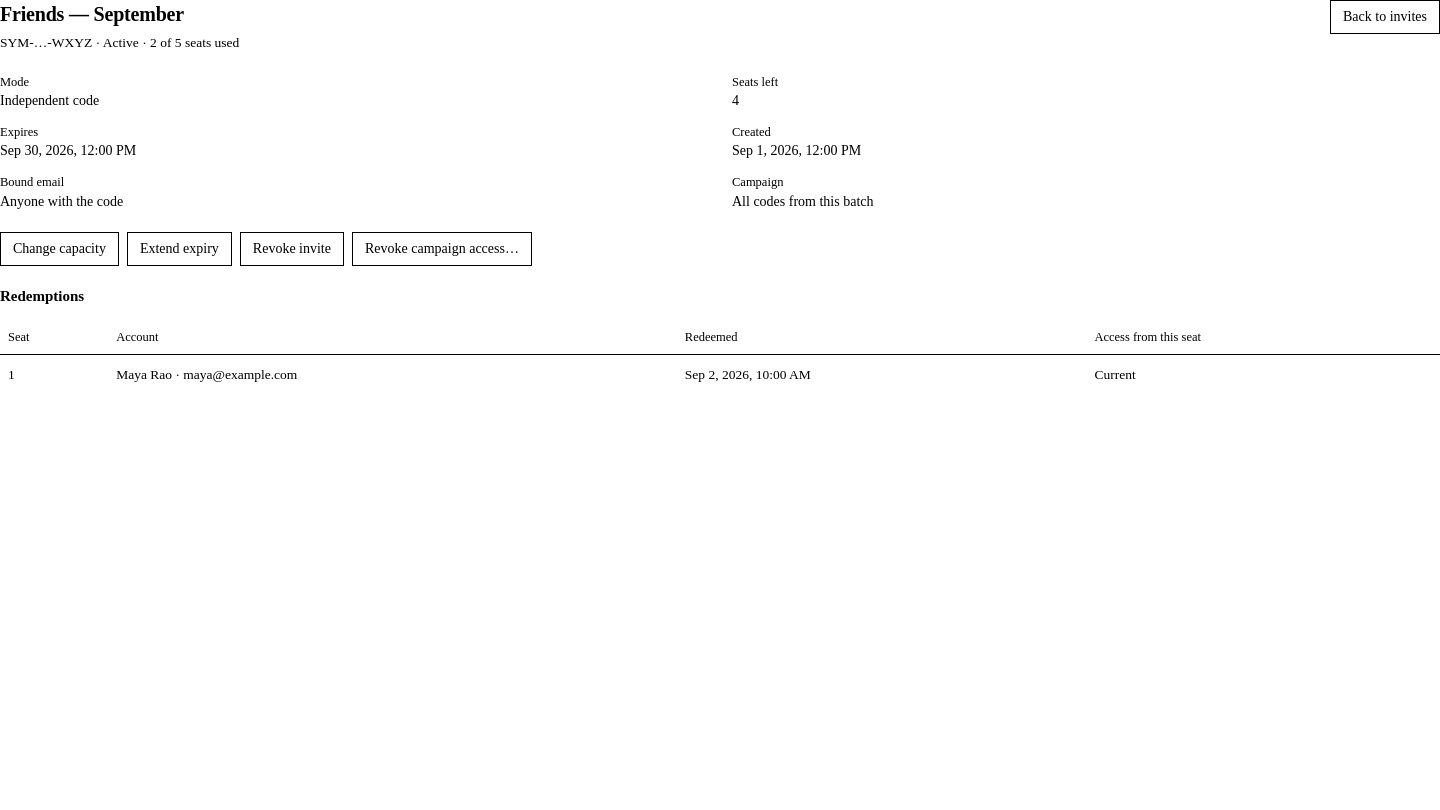
one invite (admin_invites.md) › never lets a cap go below the seats already used
The image size is (1440, 810).
Click the button "Change capacity": (59, 249) [0,232,119,266]
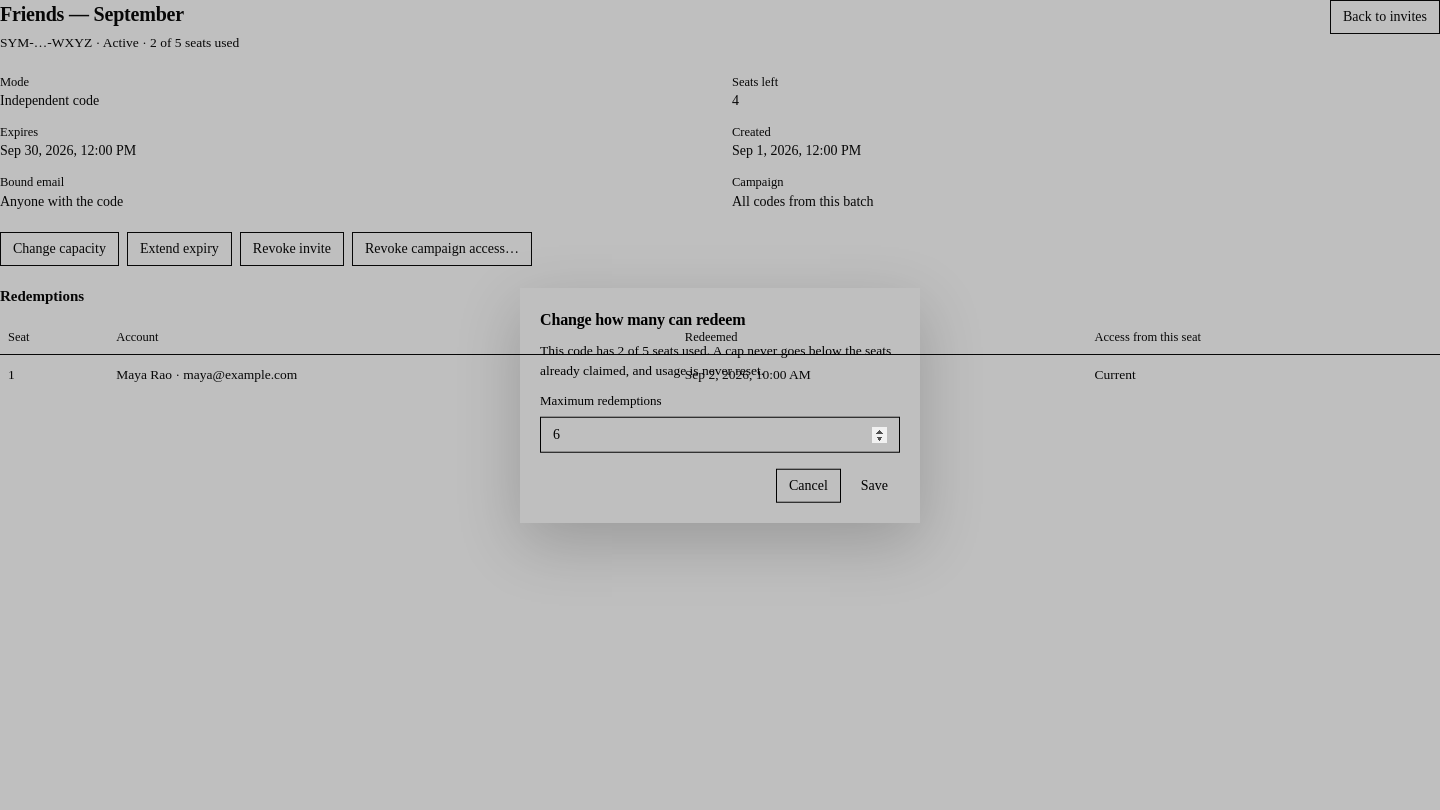
Replace the text in the number field labelled "Maximum redemptions" with "1": (720, 434) [540,416,900,452]
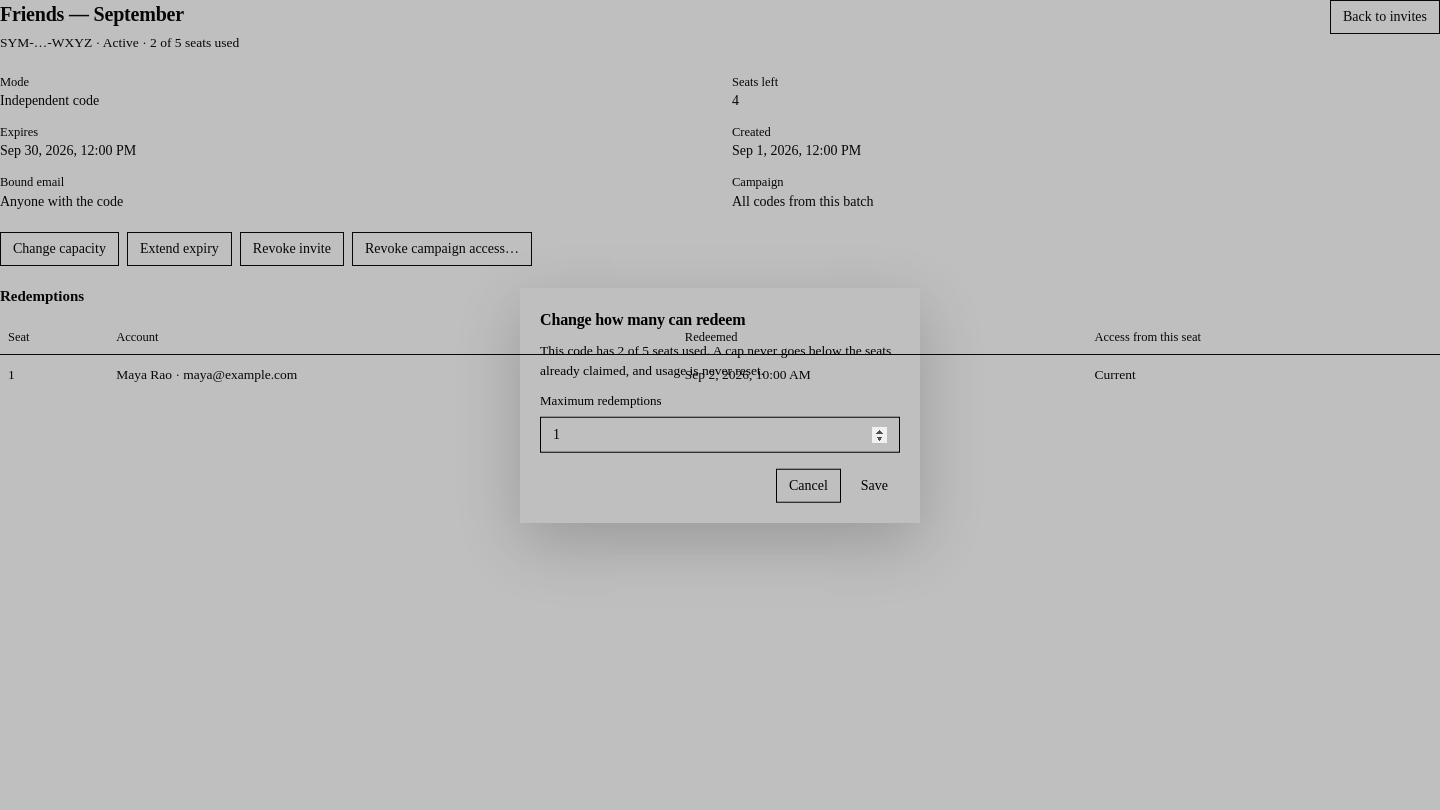
Click the button "Save": (874, 485) [849,468,900,502]
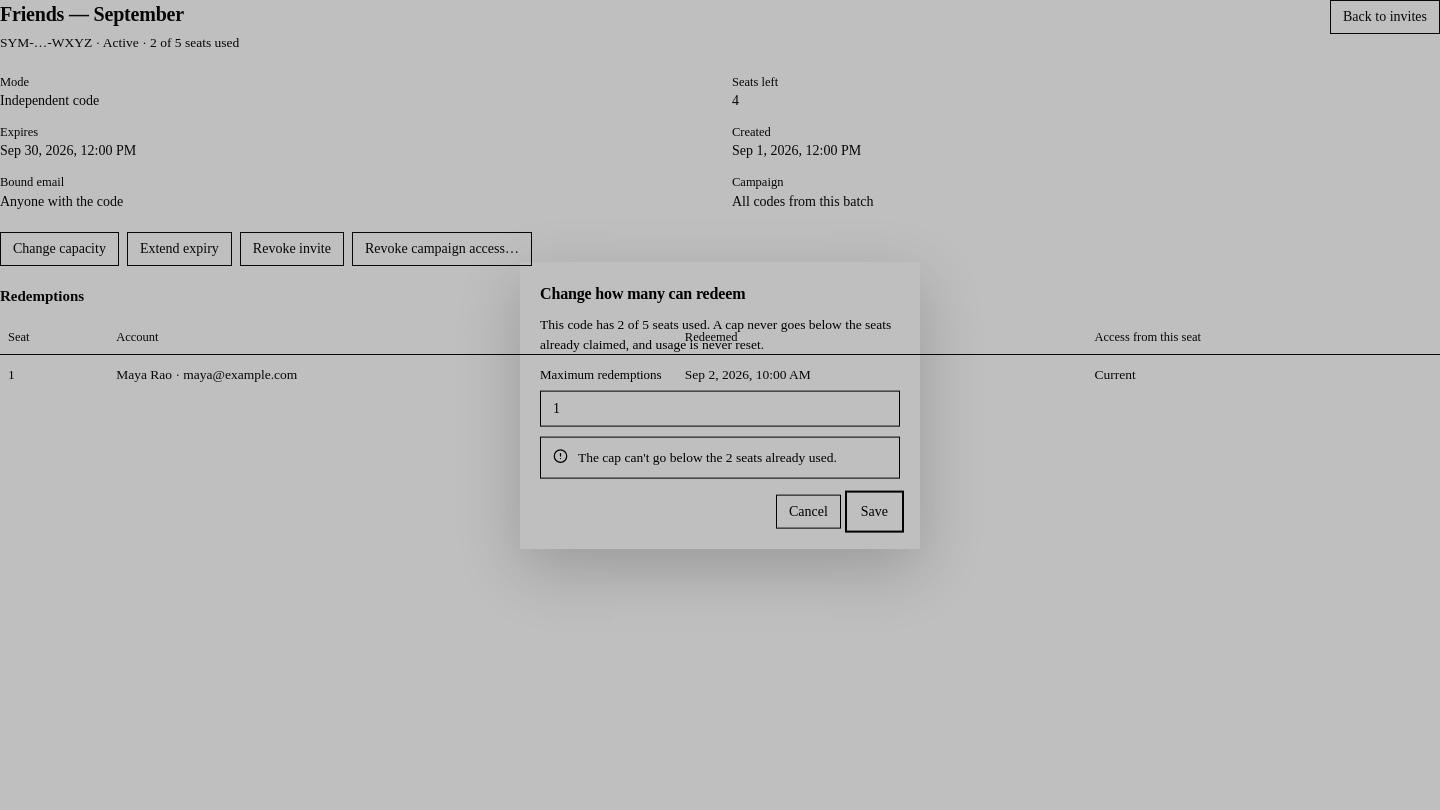
Expected: the text "The cap can't go below the 2 seats already used." is shown, [578,449,837,464]
